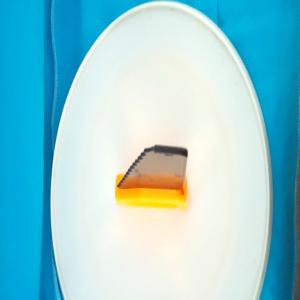serrote: (114, 142, 190, 213)
